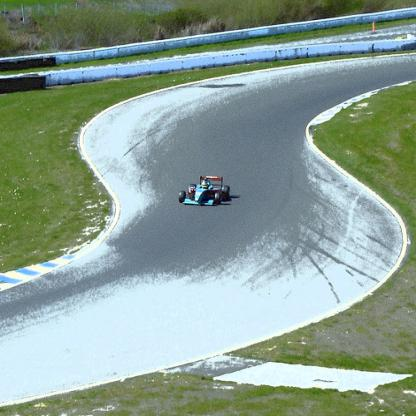car: (177, 174, 231, 206)
